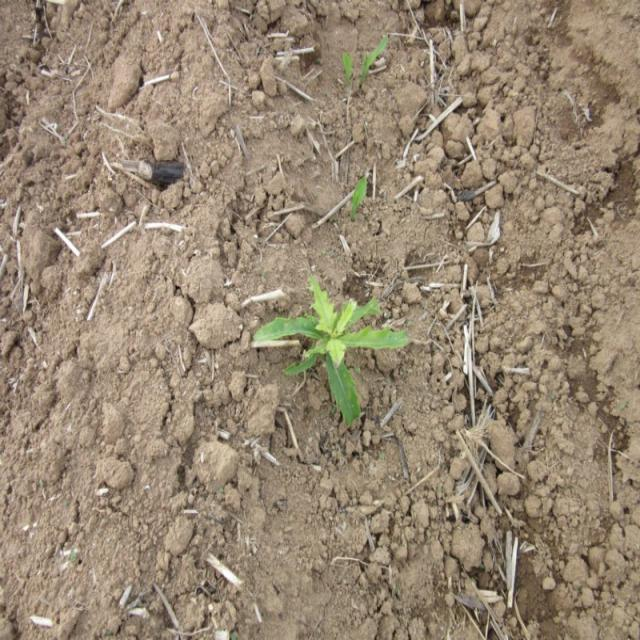cs: (251, 269, 413, 428)
